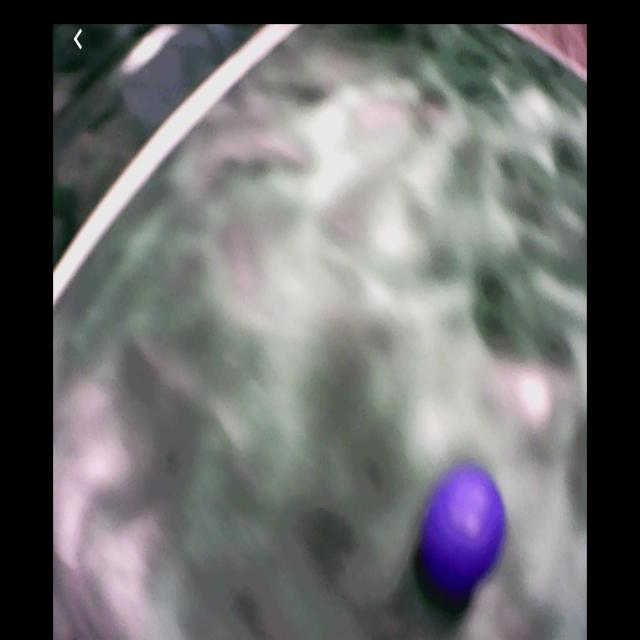ball: (426, 465, 505, 590)
